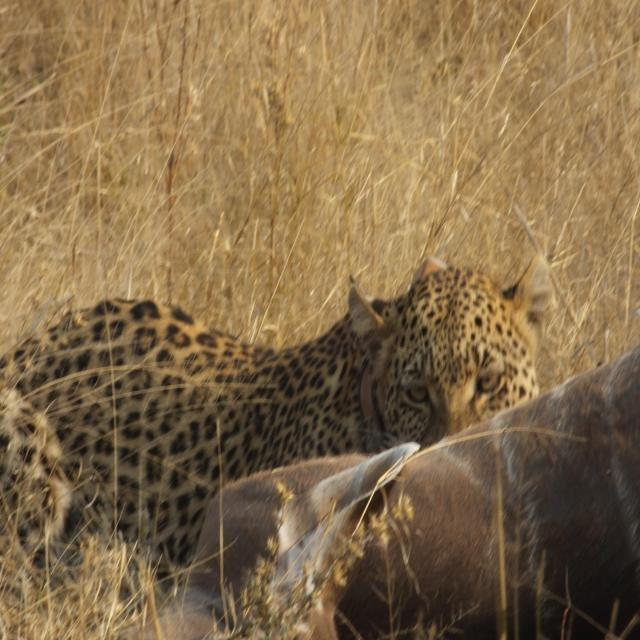Leopard: (5, 260, 562, 602)
